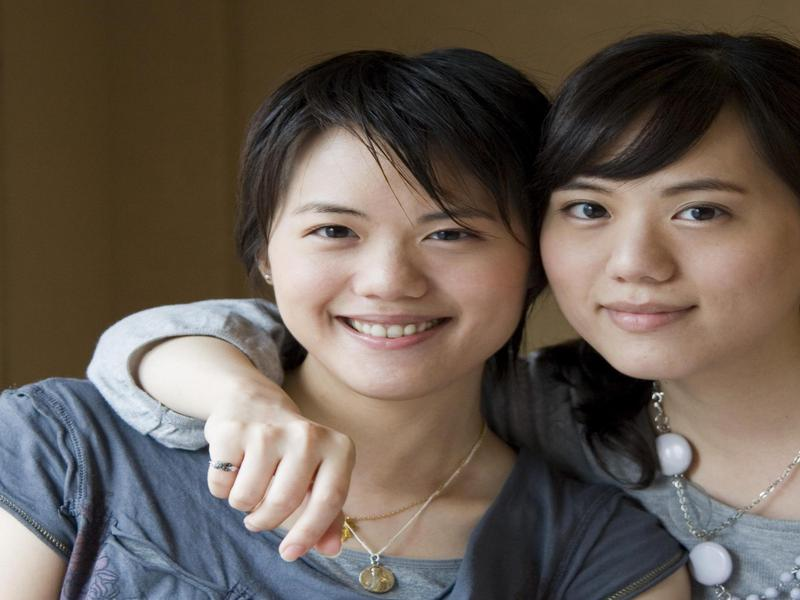person: (1, 49, 688, 600), (540, 31, 795, 600)
